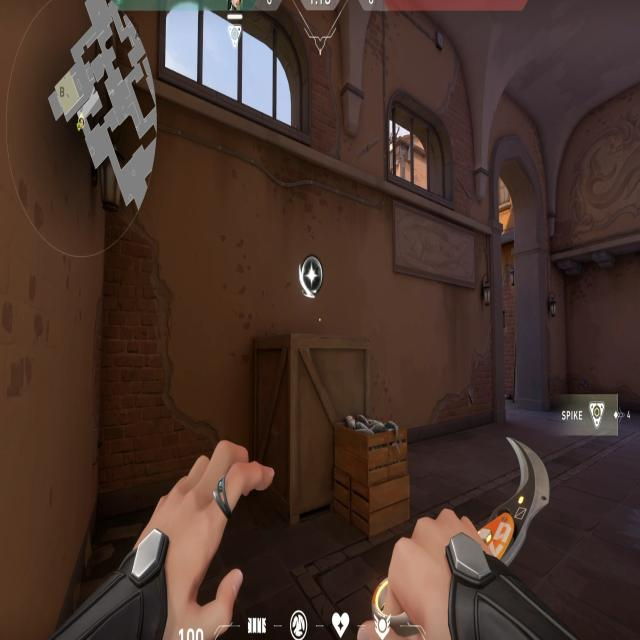B_Main_Wallbang: (182, 248, 338, 524)
Throwables: (143, 0, 321, 159), (376, 82, 458, 220)
